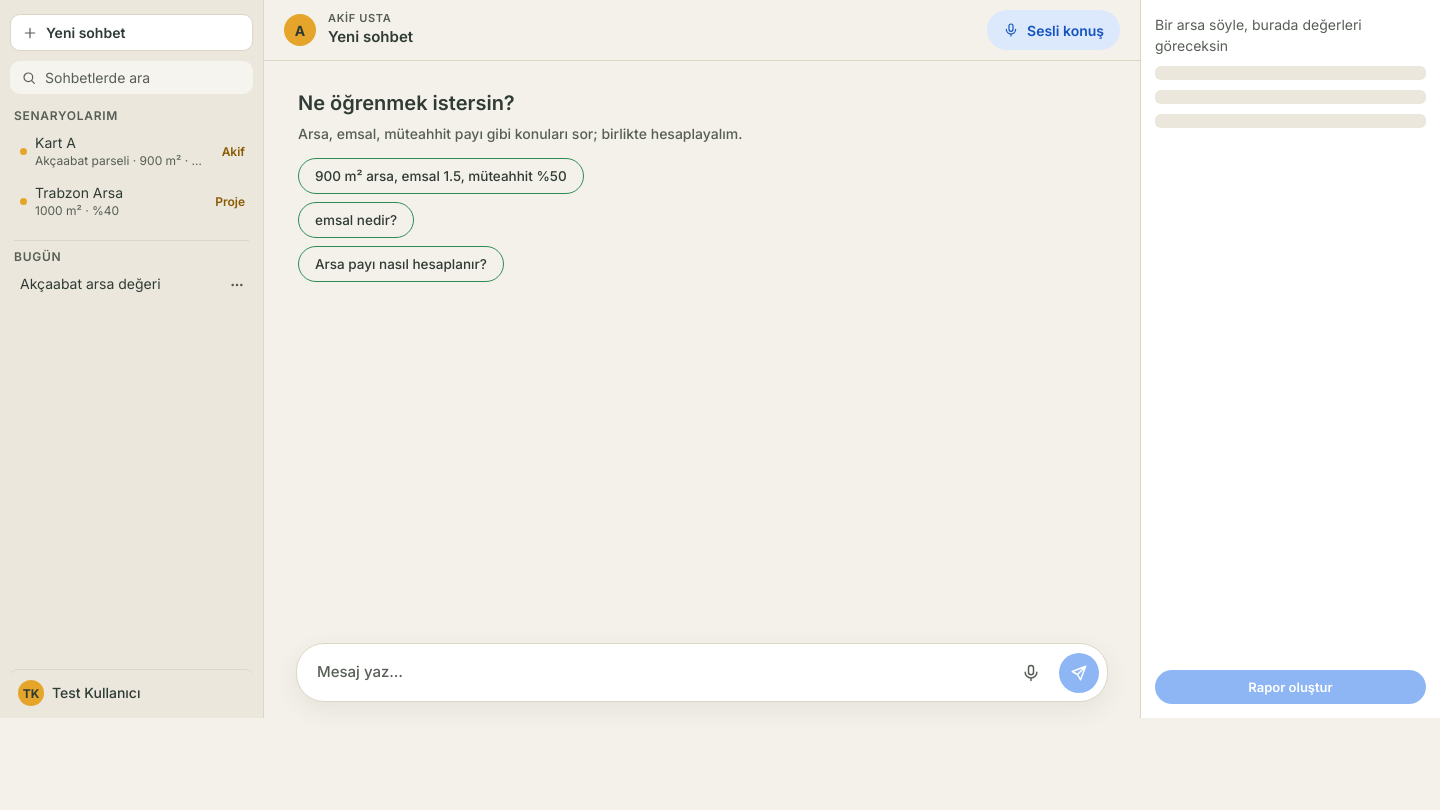
Test: tur sürerken etkin sohbet silinemez: bildirim, DELETE yok, görünüm yerinde
Click the button "Akçaabat arsa değeri" at x=116, y=285, box [10,268,223,301]
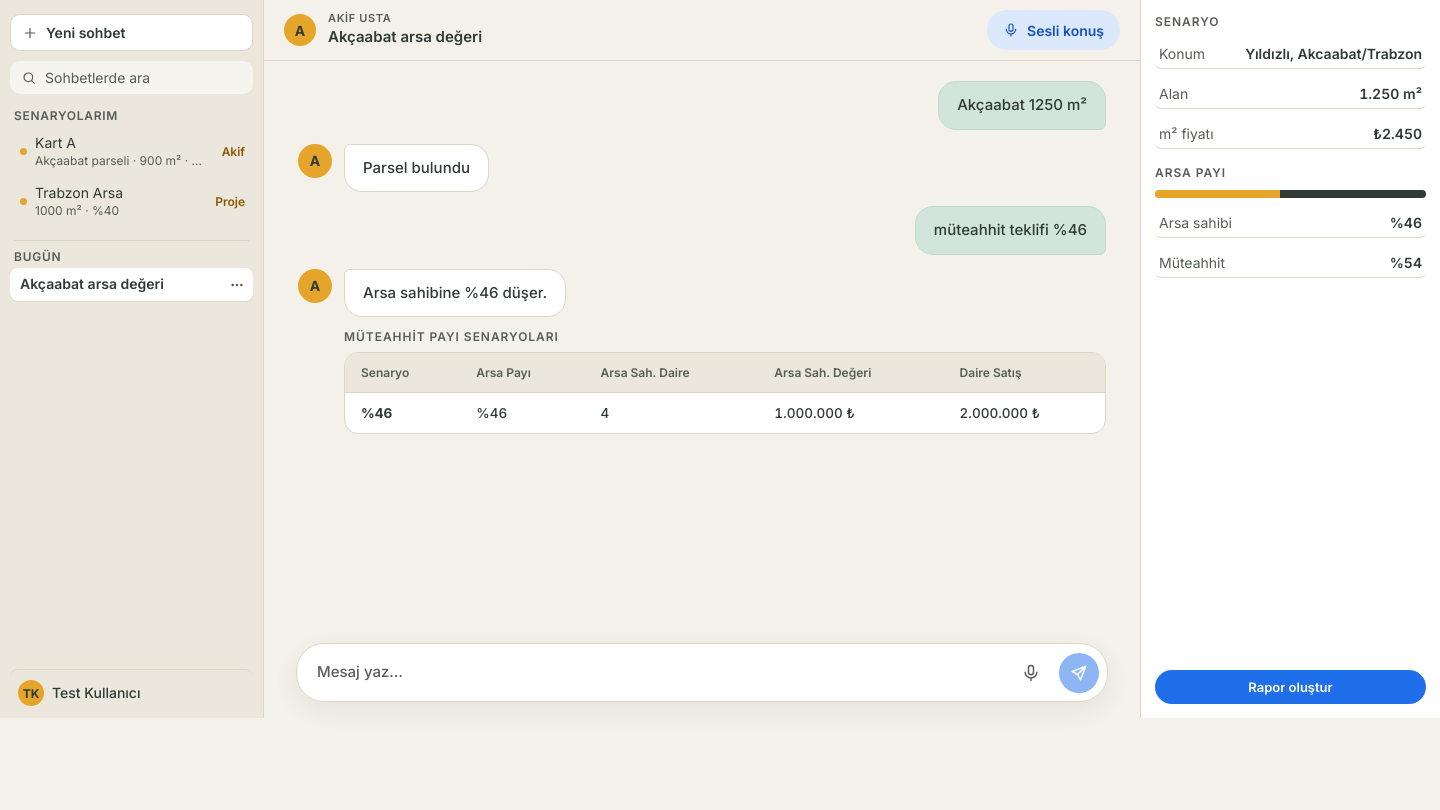
Check: the text "Arsa sahibine %46 düşer." is shown, box [344,268,566,317]
Type "bekle" into the text box at x=660, y=672, box [317,652,1003,693]
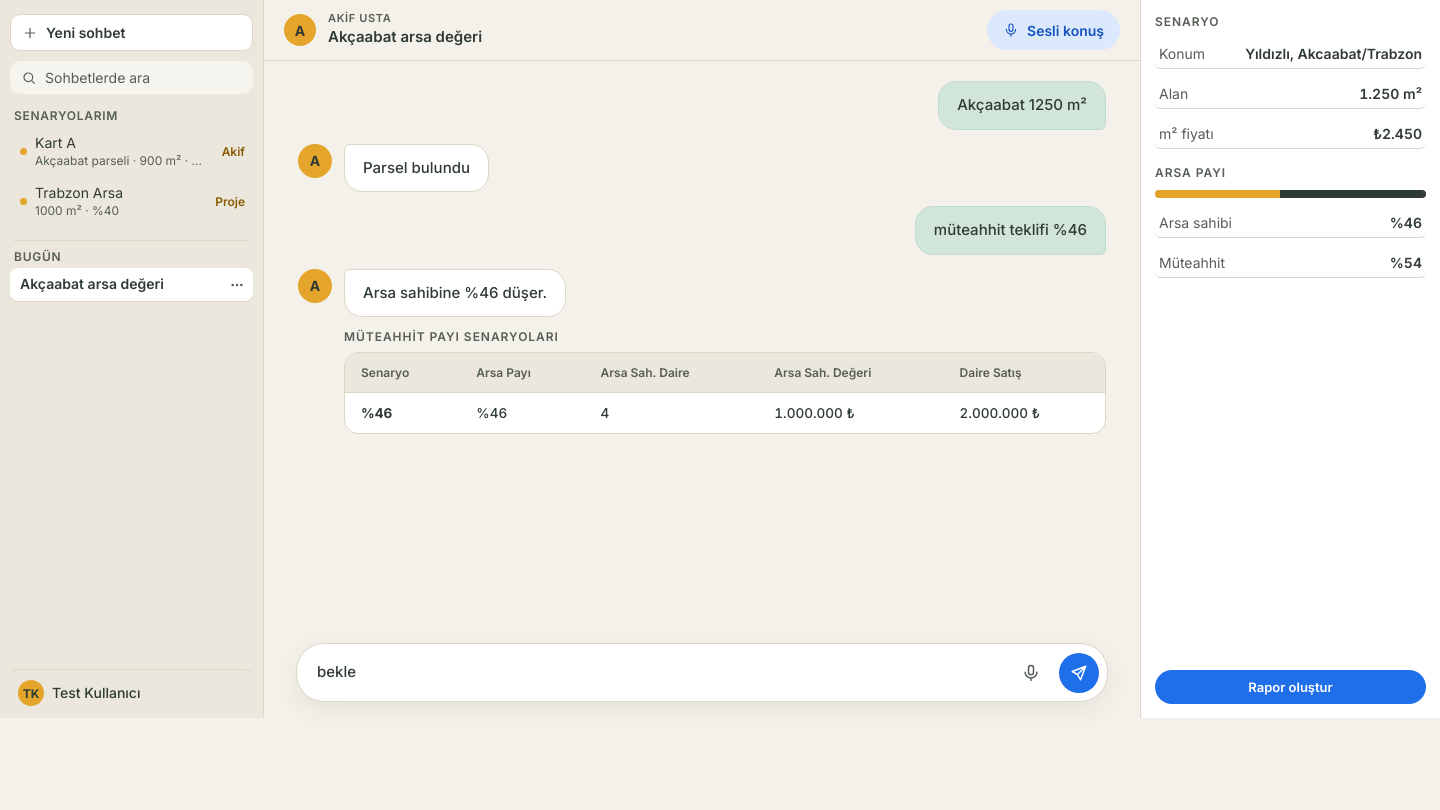
Submit the form, box [296,643,1108,702]
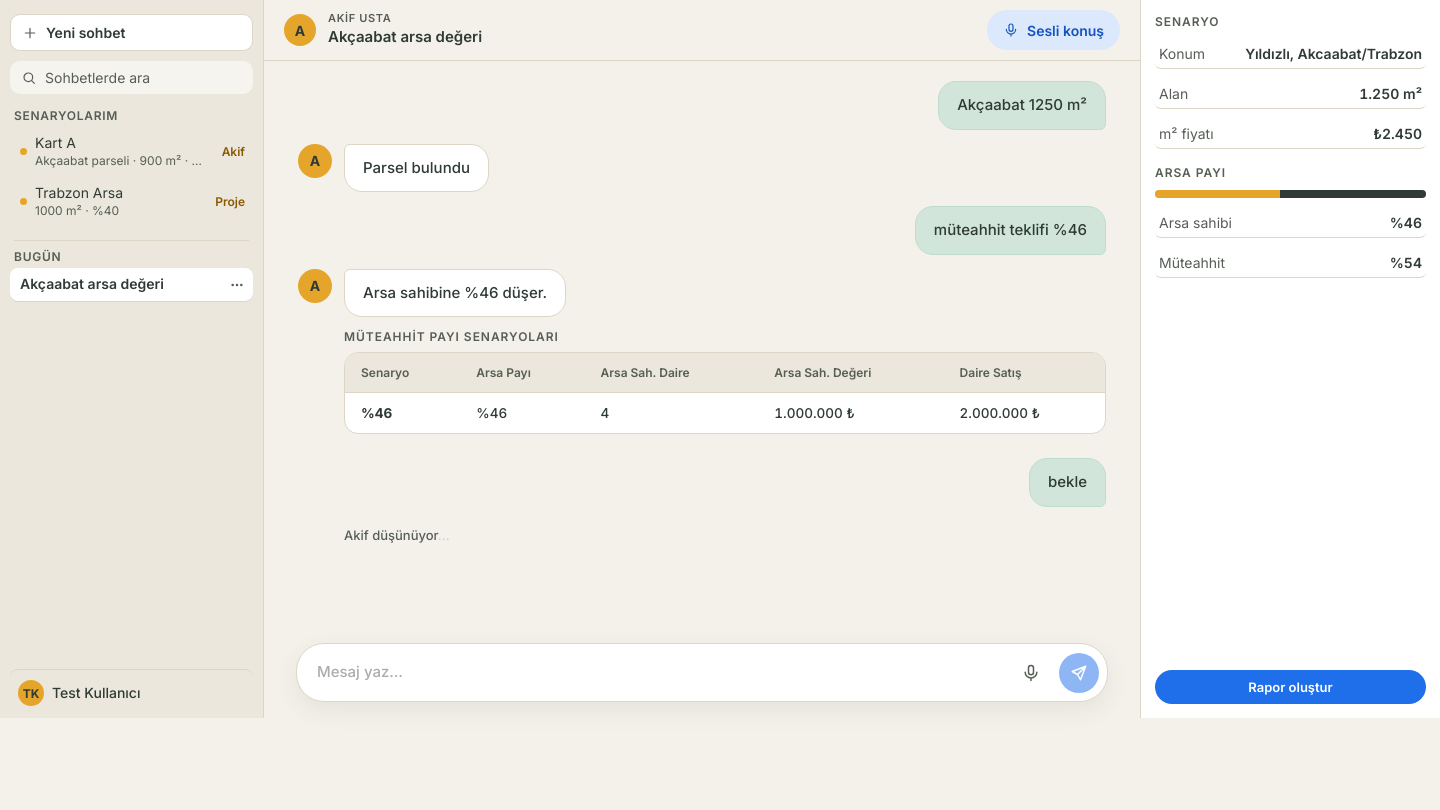
Click the button named "Sohbet işlemleri" at x=237, y=285, box [223,271,251,299]
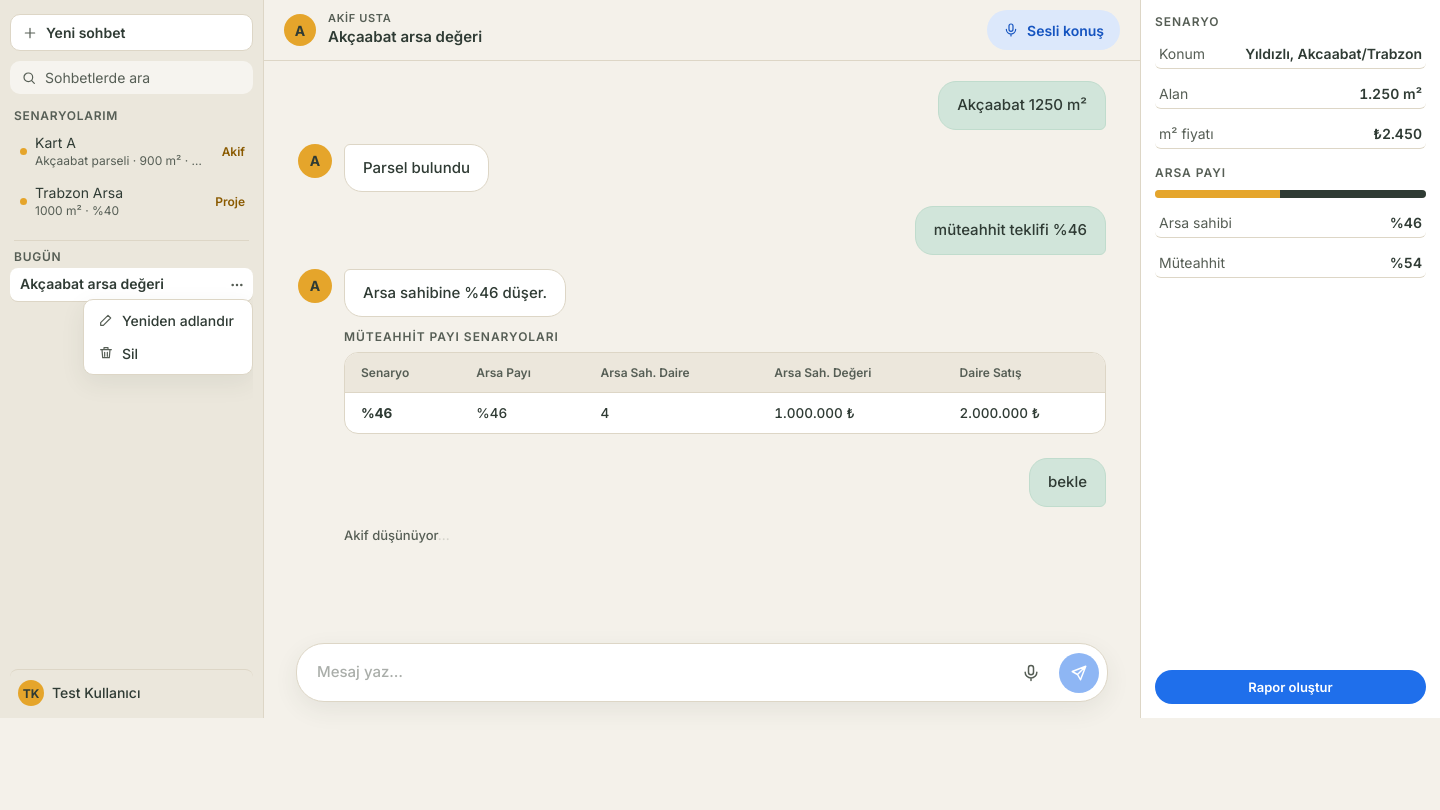
Click the button "Sil" at x=168, y=353, box [88,337,248,370]
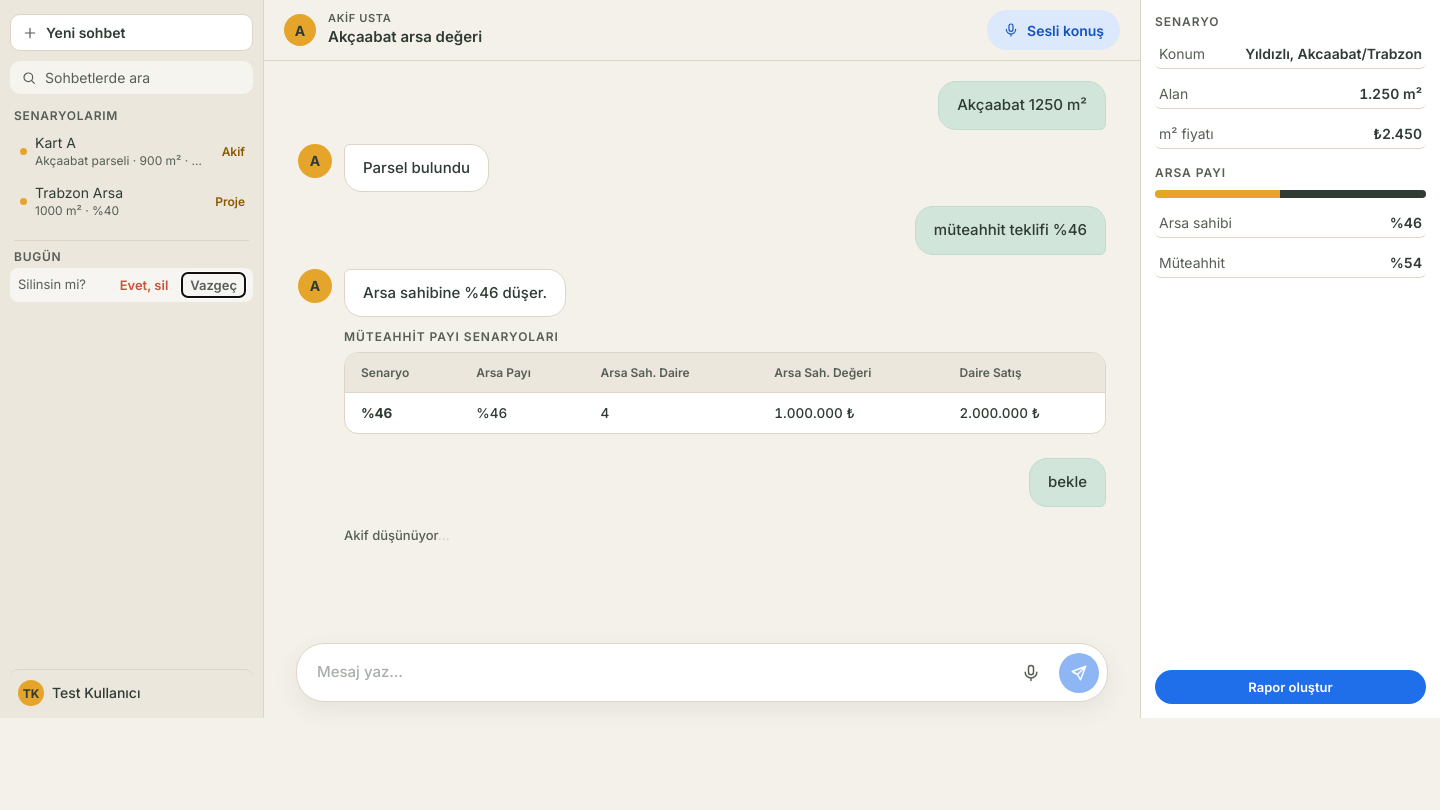
Click the button "Evet, sil" at x=144, y=285, box [112,273,176,297]
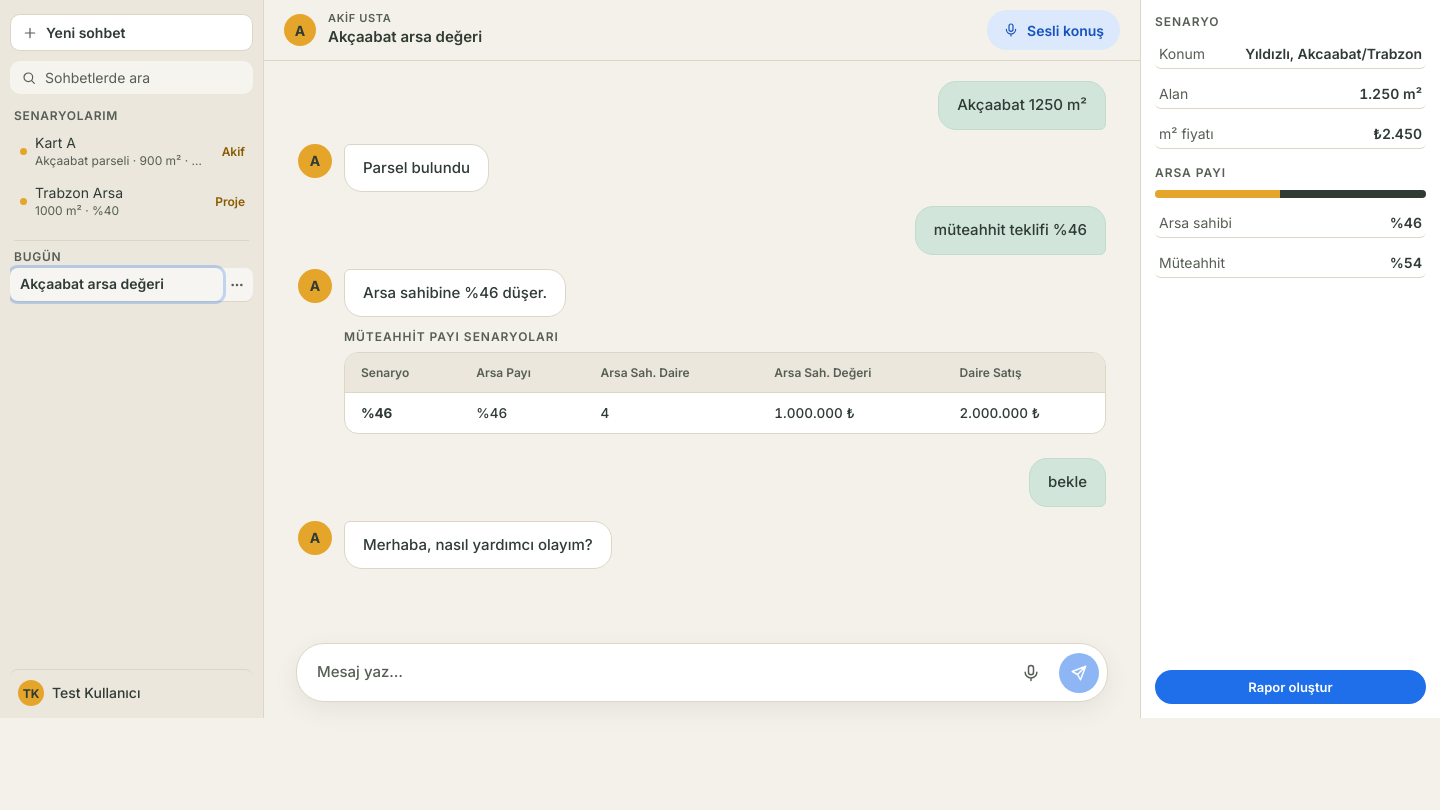
Check: the text "Arsa sahibine %46 düşer." is shown, box [344,268,566,317]
Check: the text "Merhaba, nasıl yardımcı olayım?" is shown, box [344,520,612,569]
